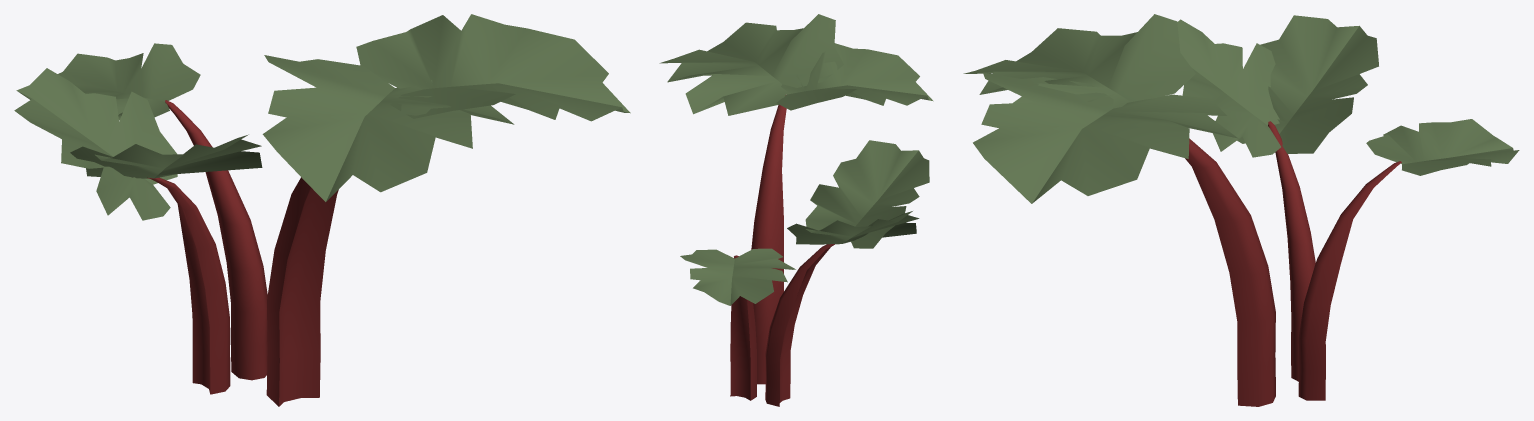
The model's file is PL_rhubarbStage1_01.fbx.
3 views of the same model, side by side, from view 1: azimuth 30°, elevation 25°; view 2: azimuth 150°, elevation 25°; view 3: azimuth 270°, elevation 25° (orthographic). The views are drawn at different scales.
Visible parts, largest first — view 1: PL_rhubarbStage1_01; view 2: PL_rhubarbStage1_01; view 3: PL_rhubarbStage1_01.
Boxes of the visible parts, left/top/right/bottom form: PL_rhubarbStage1_01: left=14, top=14, right=630, bottom=406; PL_rhubarbStage1_01: left=659, top=14, right=933, bottom=406; PL_rhubarbStage1_01: left=963, top=14, right=1519, bottom=406.
Bounding box in the file's own units: 41.33 × 33.75 × 48.71.
Materials: 1 (1 with a texture image).
